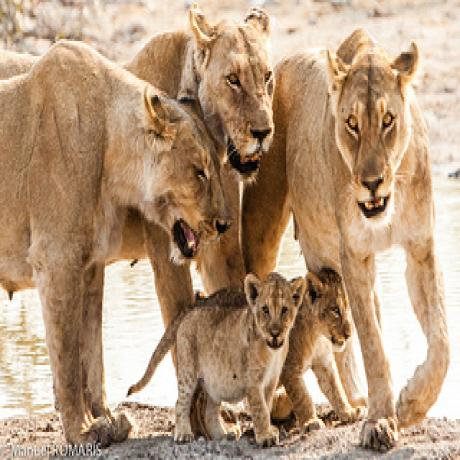Lion: (0, 31, 231, 460), (276, 23, 458, 450), (130, 1, 278, 183), (172, 268, 304, 448), (298, 260, 352, 392)
